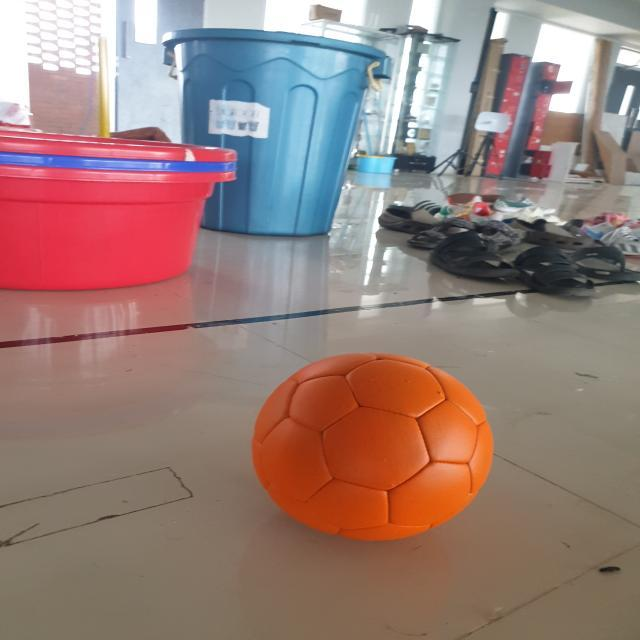bola: (252, 349, 492, 549)
